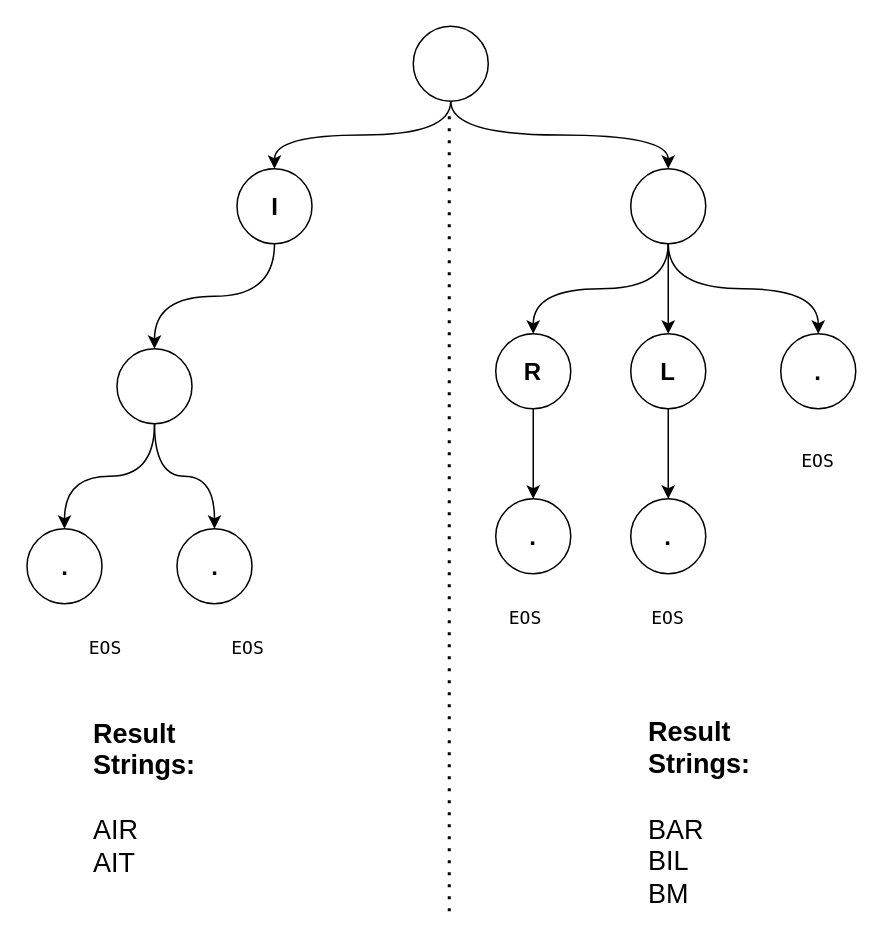
This 888x941 diagram has some shape labels left out. The centre of each missing label's shape, as x and y in pixels:
AB: point (450, 63)
AIM: point (667, 205)
RT: point (154, 385)
